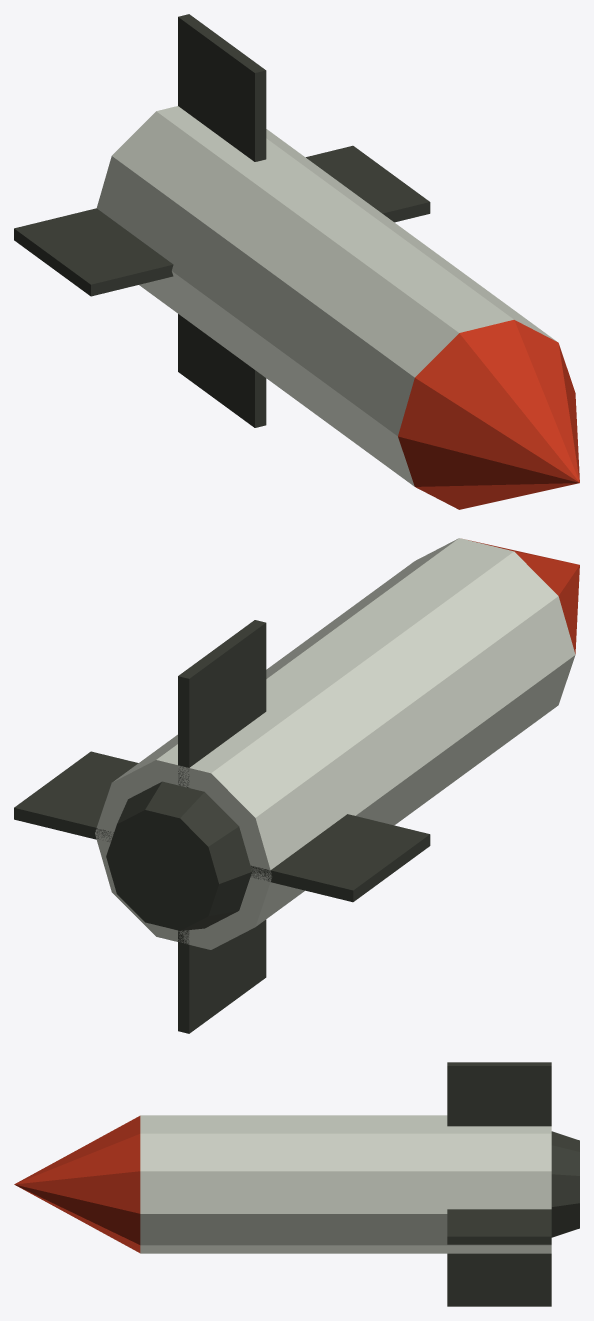
The model's file is missile.glb.
3 renders of one model, top to bottom at view 1: azimuth 30°, elevation 25°; view 2: azimuth 150°, elevation 25°; view 3: azimuth 270°, elevation 25°, orthographic. The views are drawn at different scales.
Parts seen in each view (by area): view 1: body; view 2: body; view 3: body.
Boxes of the visible parts, x1=… form: body: x1=14, y1=14, x2=579, y2=509; body: x1=14, y1=538, x2=579, y2=1033; body: x1=14, y1=1062, x2=579, y2=1306.
Bounding box in the file's own units: 0.42 × 0.42 × 0.895.
Materials: 1 (1 with a texture image).
